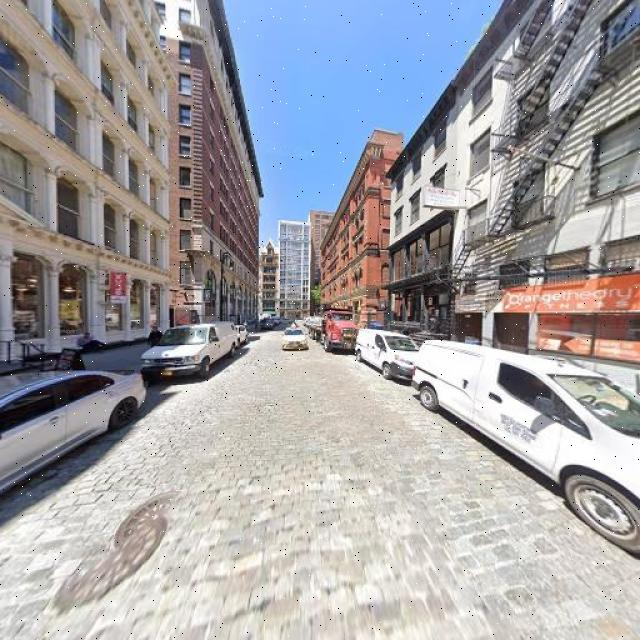Building: (457, 1, 640, 404), (1, 1, 165, 372), (392, 89, 454, 359)
